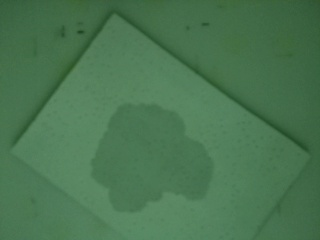Water_detected: (107, 110, 193, 195)
